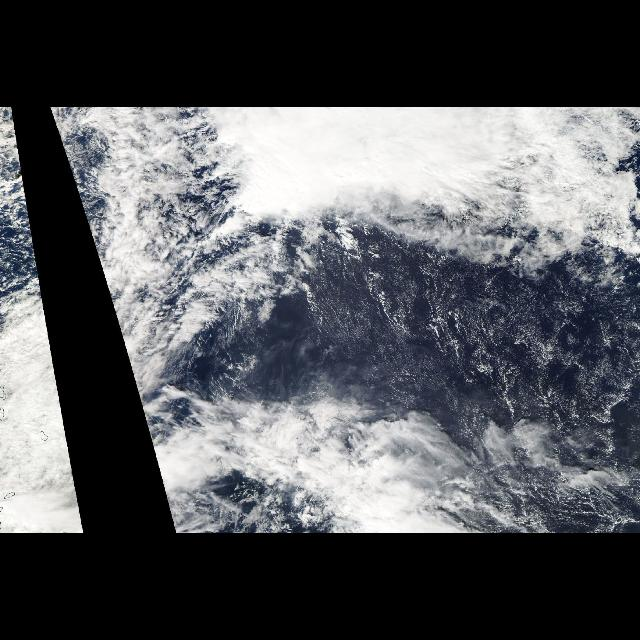Sugar: (315, 251, 639, 421)
